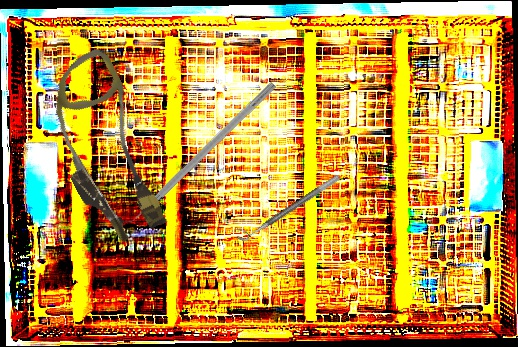Cannula: (23, 44, 188, 253)
Chopper: (114, 73, 277, 232)
Fixation Ring: (231, 165, 342, 246)
